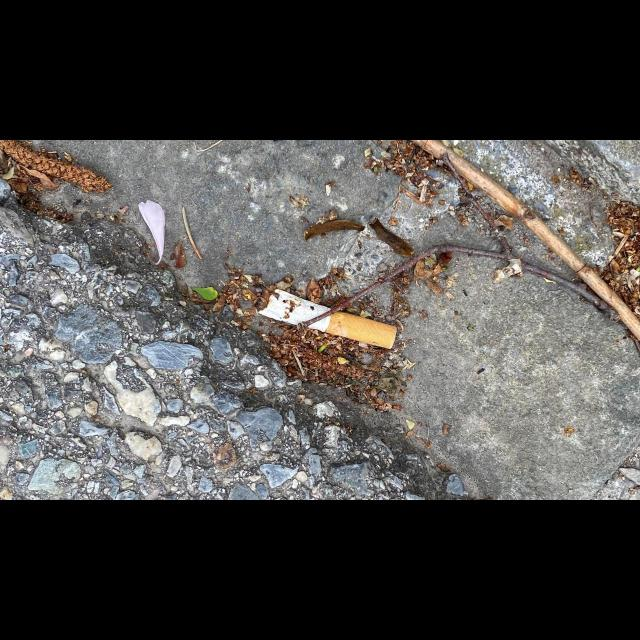cigarette: (255, 286, 397, 350)
